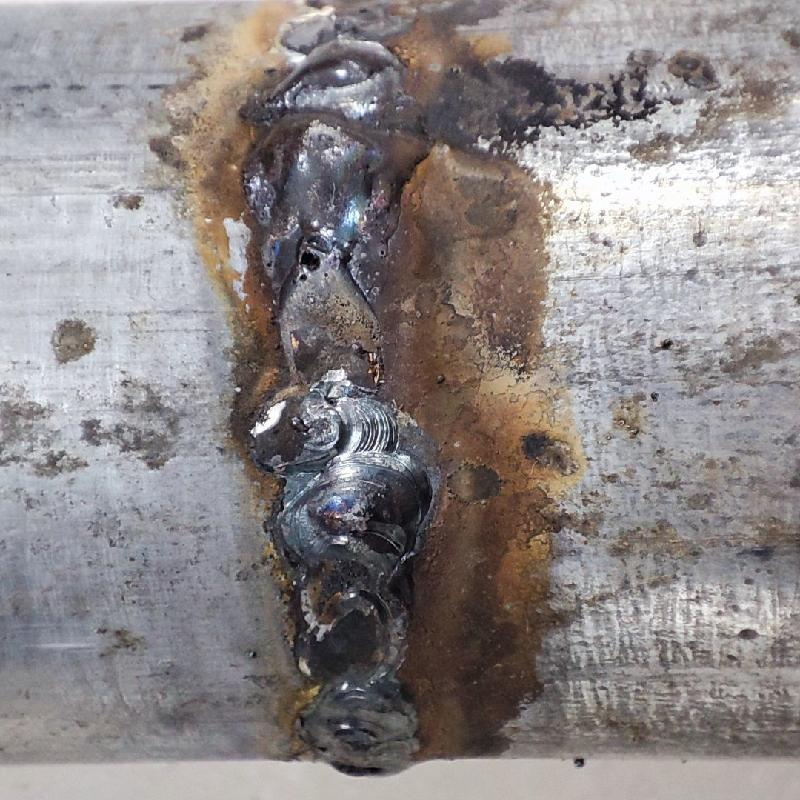Not_fully_soldered: (263, 239, 391, 448)
Surface_pores: (288, 236, 338, 291)
Weld: (236, 44, 426, 244)
wrong_size: (268, 446, 437, 777)
